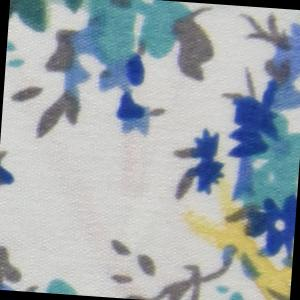Stain: (170, 169, 299, 300)
